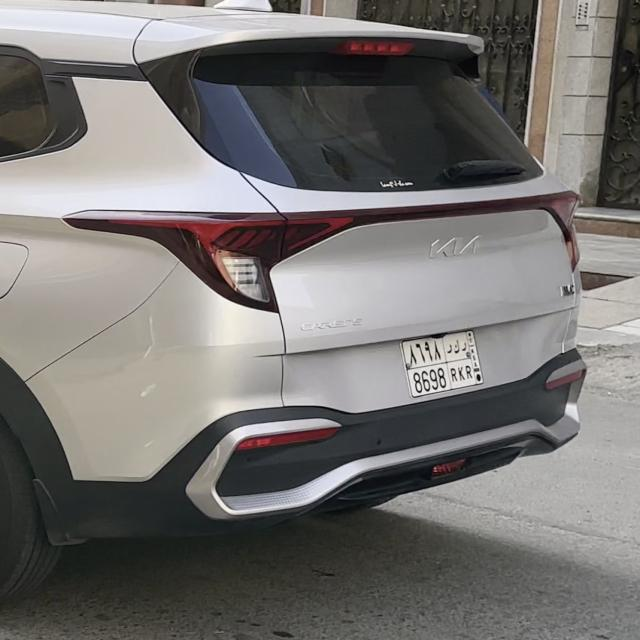Car-plate: (392, 314, 503, 412)
